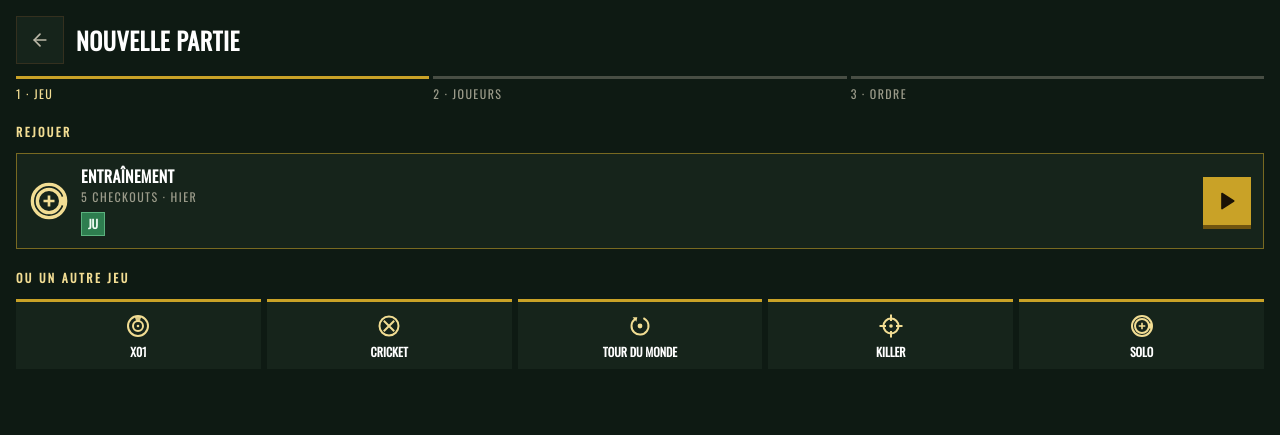
Test: Nouvelle partie — étape 1, « Rejouer » › échec du lancement solo : le message d’erreur existant, sous la section
The width and height of the screenshot is (1280, 435).
Click the button named "Lancer Entraînement" at (1227, 201), box [1203,177,1251,225]
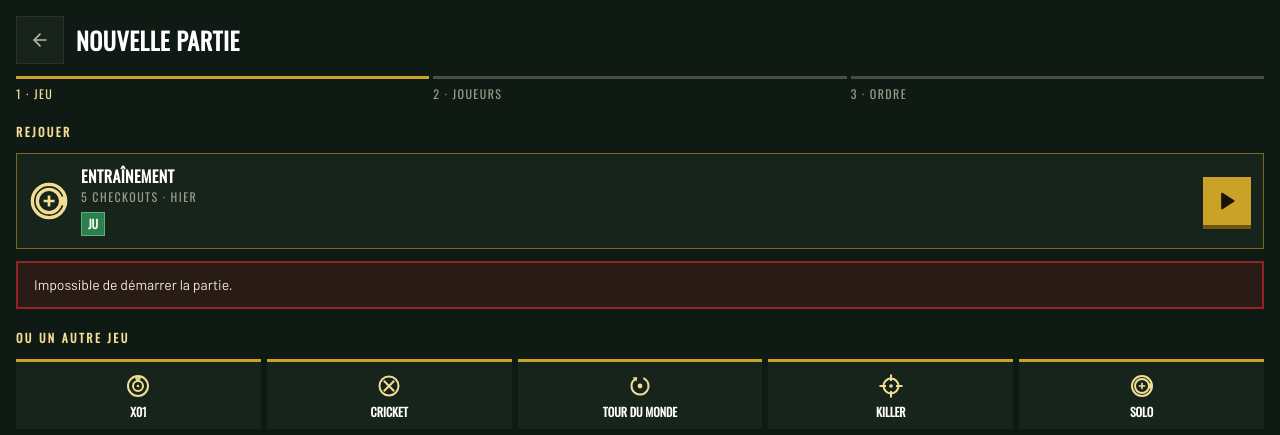
expect the text "Impossible de démarrer la partie." is shown: met, box [16,261,1264,309]
